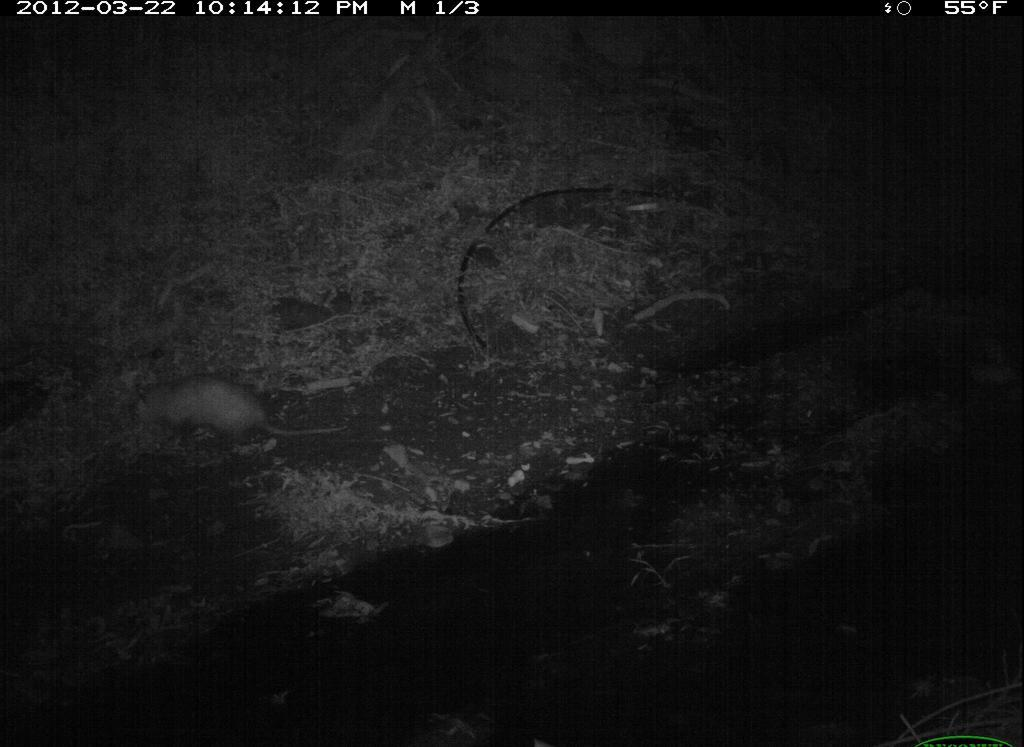opossum: (121, 369, 368, 459)
